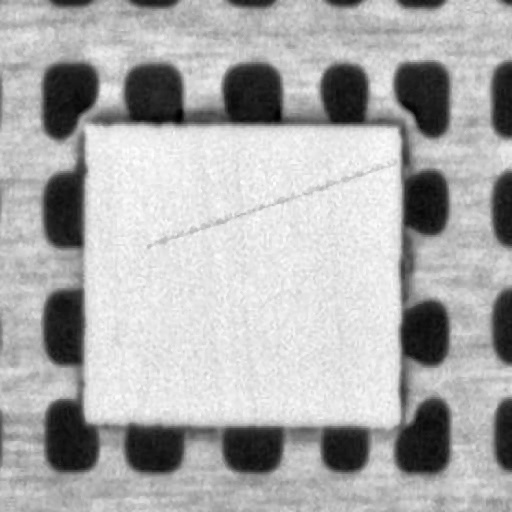DIE_CRACK: (193, 120, 512, 184)
